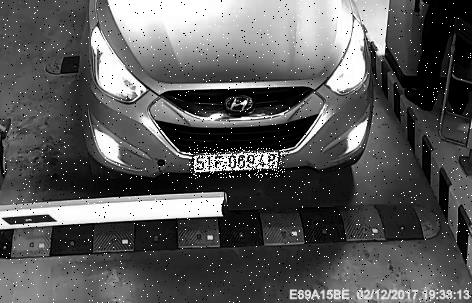License-plate: (191, 148, 287, 179)
